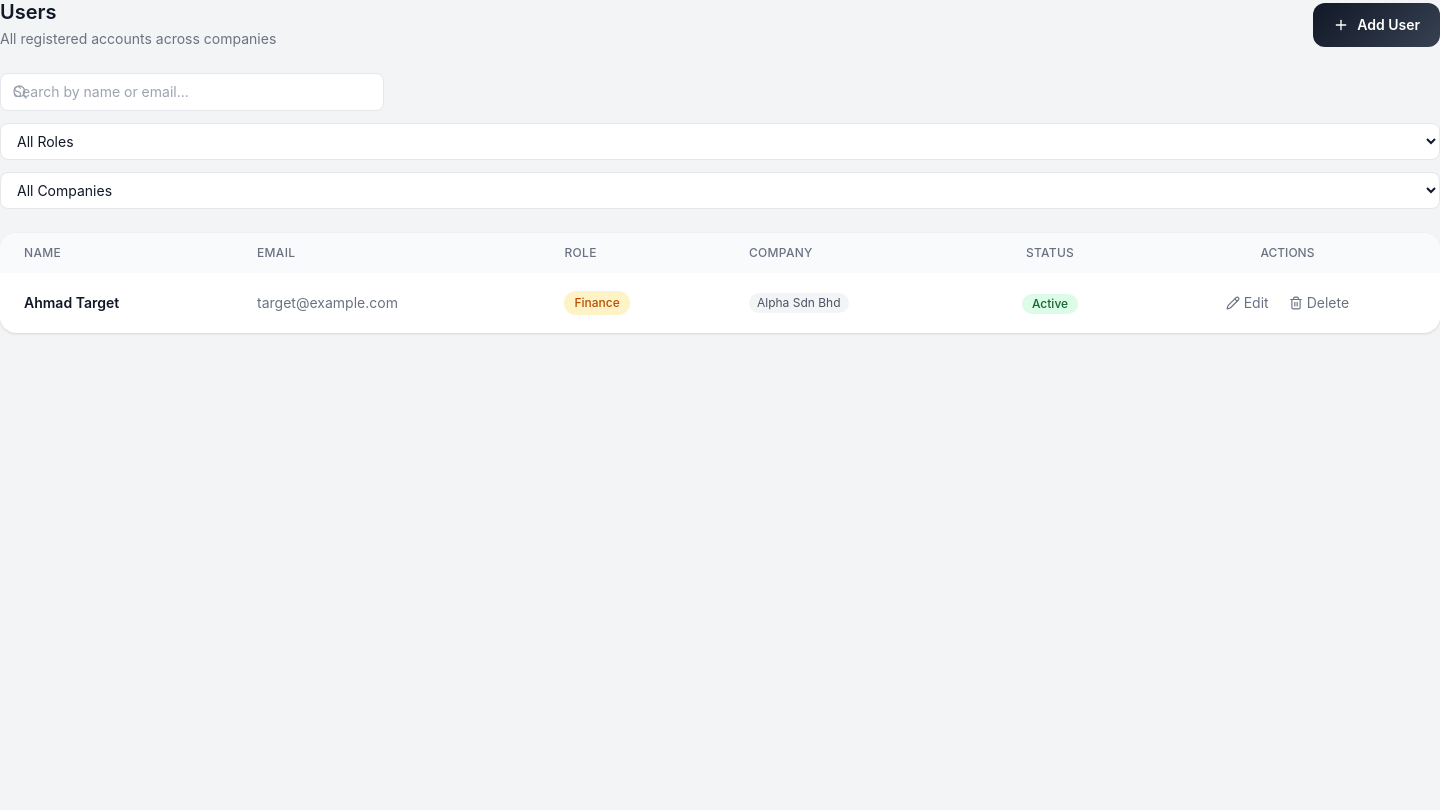
UserManagement — delete › closes and refreshes the list on success
Click the button with aria-label "Delete Ahmad Target": [1319, 303] box [1281,289,1357,317]
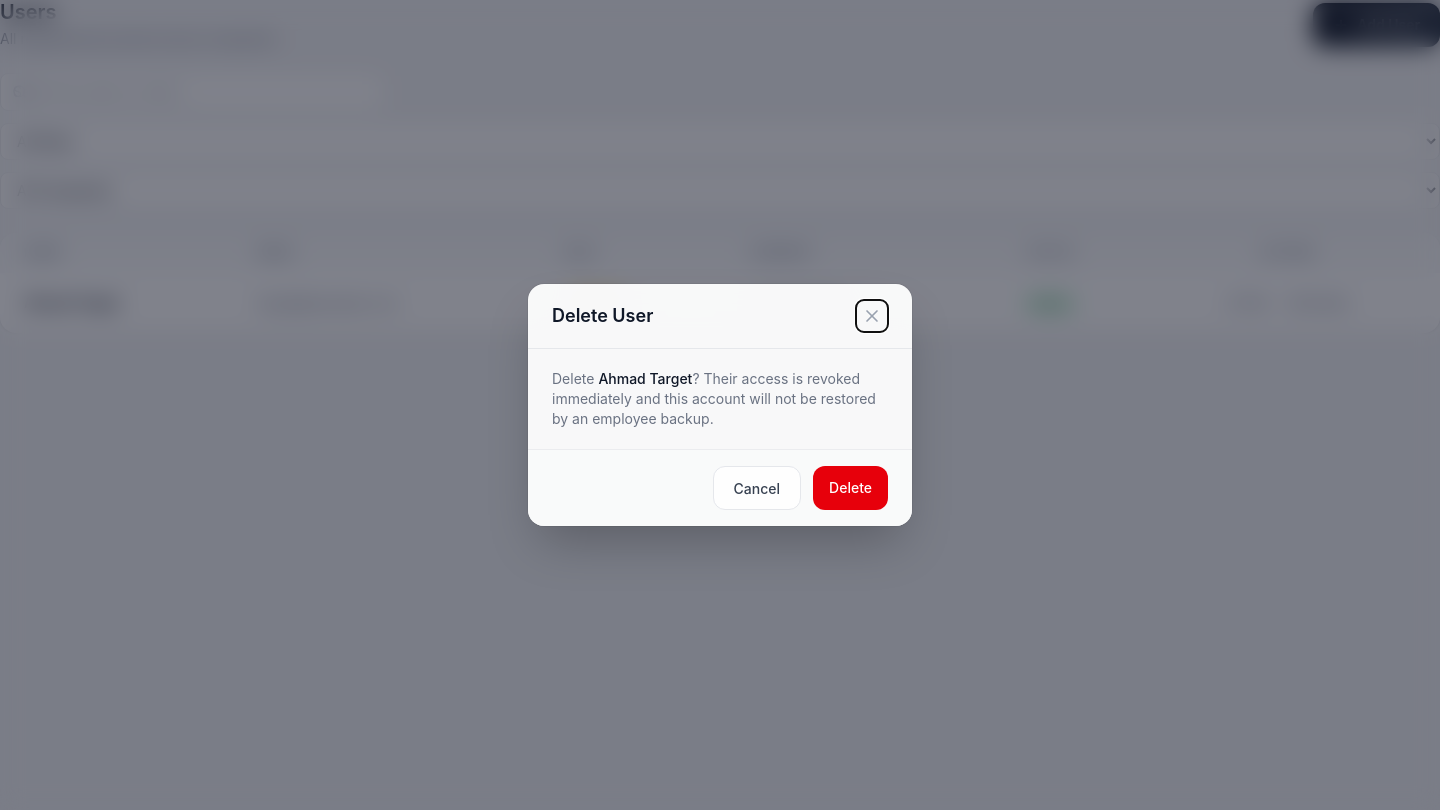
Click the button "Delete": [851, 488] box [813,466,888,510]
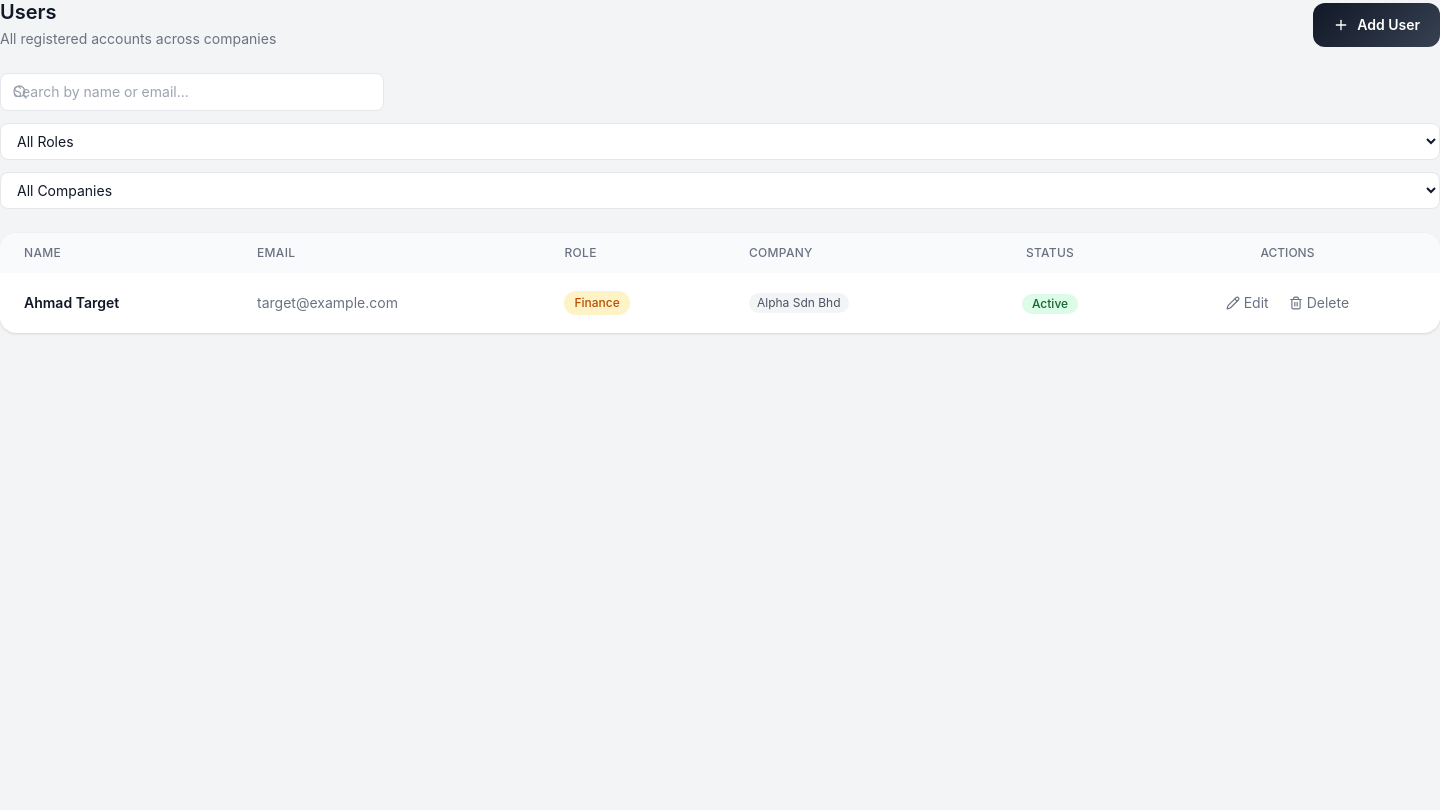
Expected: the dialog is gone
